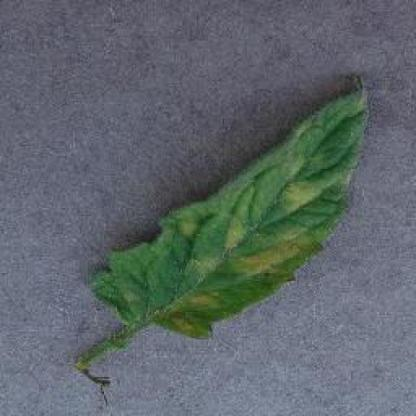Tomato_Leaf_Mold: (91, 79, 369, 339)
